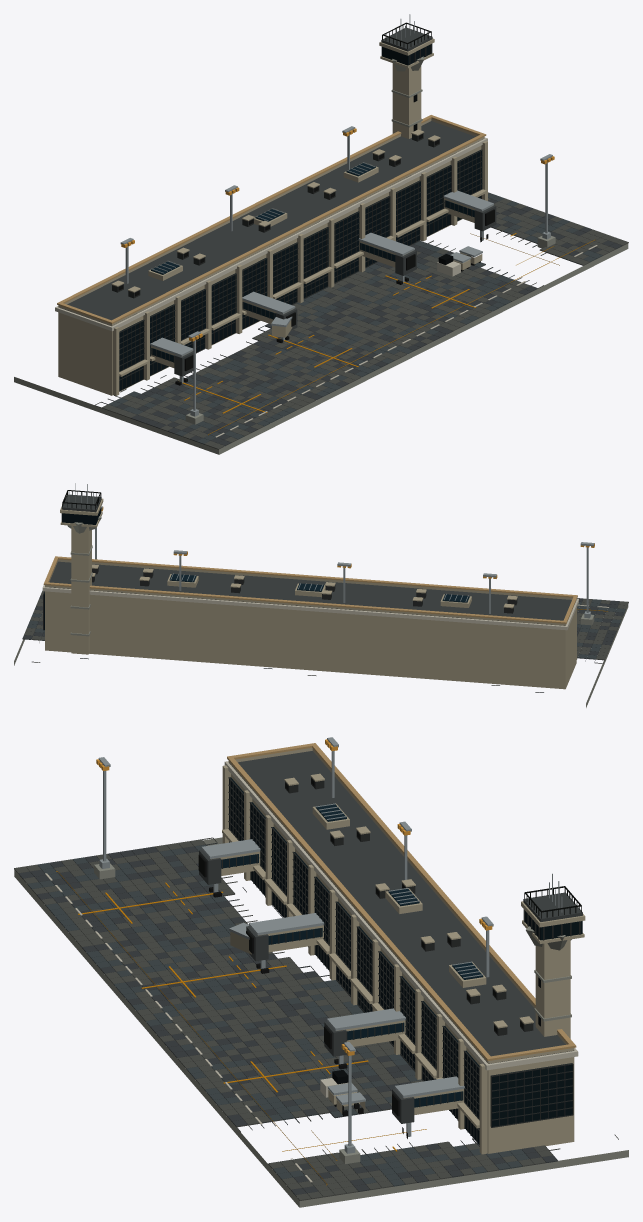
Rendered from SM_StreetFrontage_026.fbx.
The picture shows the model from 3 angles, top to bottom: view 1: azimuth 30°, elevation 25°; view 2: azimuth 150°, elevation 25°; view 3: azimuth 270°, elevation 25°; orthographic projection. The views are drawn at different scales.
Visible parts, largest first — view 1: SM_StreetFrontage_026; view 2: SM_StreetFrontage_026; view 3: SM_StreetFrontage_026.
Part boxes in pixels (x1,y1,x2,y2): SM_StreetFrontage_026: [14, 14, 628, 454]; SM_StreetFrontage_026: [14, 483, 628, 707]; SM_StreetFrontage_026: [14, 737, 628, 1207].
Size of the model in its own units: 300 by 204 by 91.54.
